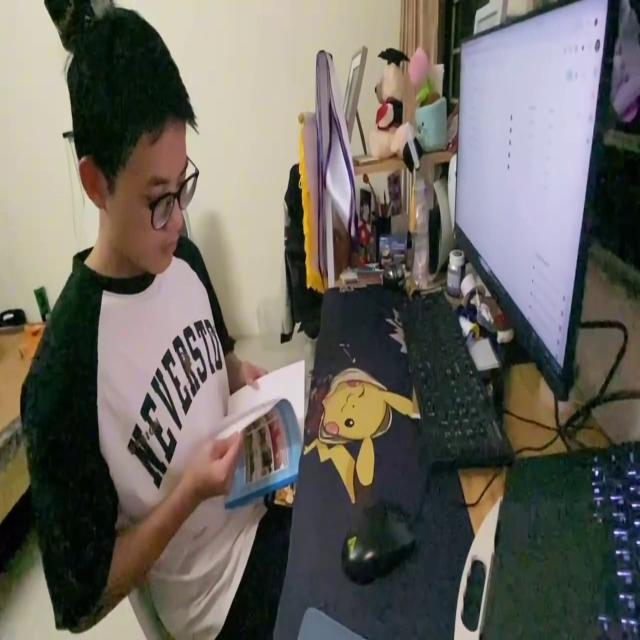book: (209, 355, 311, 504)
laptop: (453, 0, 631, 409)
student: (18, 4, 292, 636)
